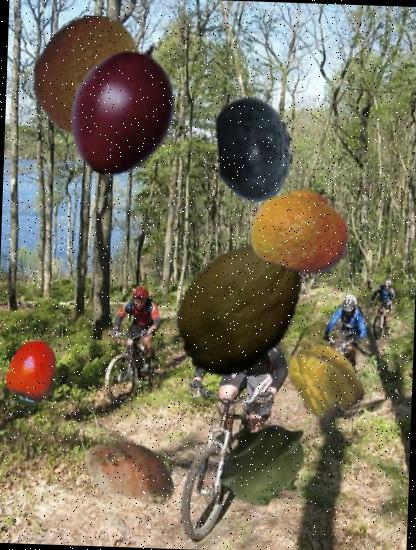Blueberry: (200, 93, 312, 205)
Kaki: (0, 338, 64, 402)
Kohlrabi: (216, 412, 318, 514)
Mandarine: (27, 14, 152, 138), (249, 178, 354, 283)
Papaya: (168, 231, 320, 383)
Physalis: (277, 330, 368, 422)
Potato: (80, 421, 182, 523)
Tamarillo: (51, 34, 200, 182)
